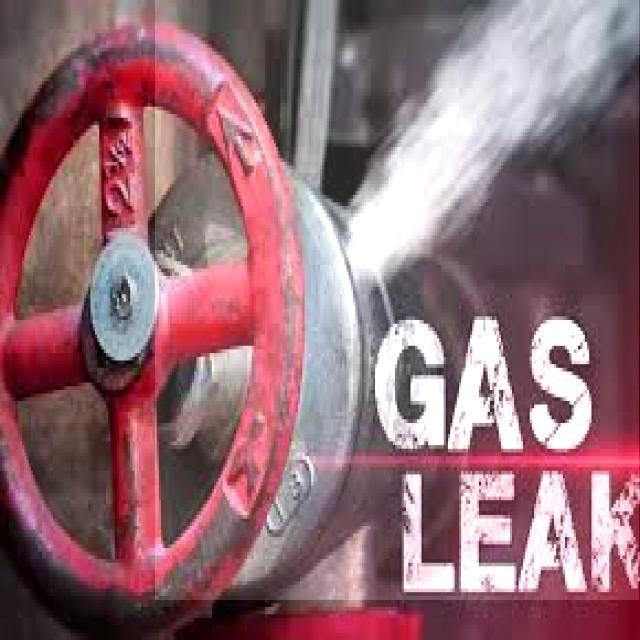corrosion: (254, 136, 461, 408)
